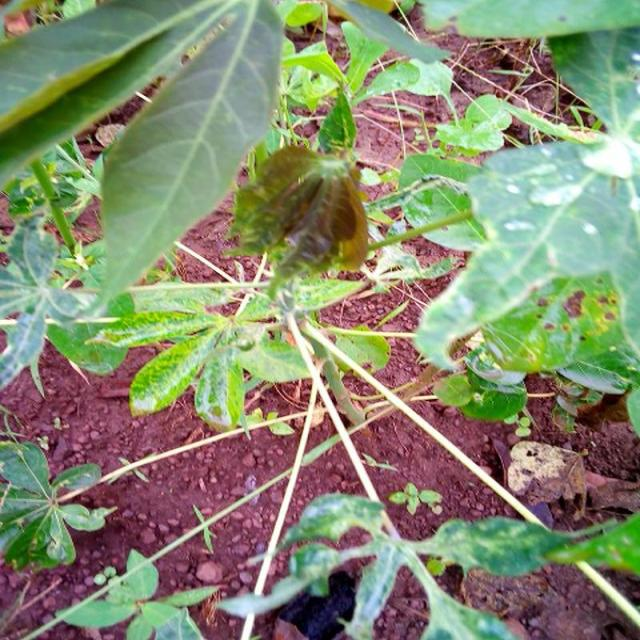cassava leaf: (94, 0, 286, 317), (413, 135, 639, 398), (230, 142, 370, 300)
